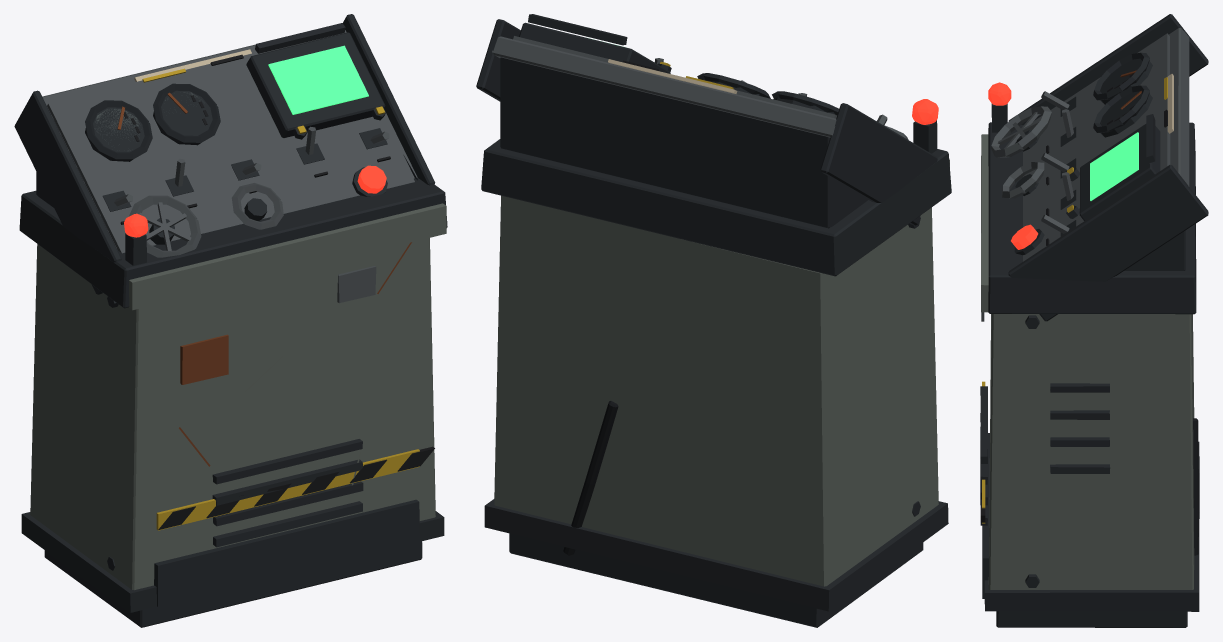
The model's file is airlock_console.glb.
3 views of the same model, side by side, from view 1: azimuth 30°, elevation 25°; view 2: azimuth 150°, elevation 25°; view 3: azimuth 270°, elevation 25° (orthographic). The views are drawn at different scales.
Visible parts, largest first — view 1: airlock_console; view 2: airlock_console; view 3: airlock_console.
Part boxes in pixels (bbox=[...]): airlock_console: bbox=[14, 14, 447, 627]; airlock_console: bbox=[476, 14, 951, 627]; airlock_console: bbox=[980, 14, 1208, 627].
Size of the model in its own units: 0.6213 by 0.8758 by 0.3832.
